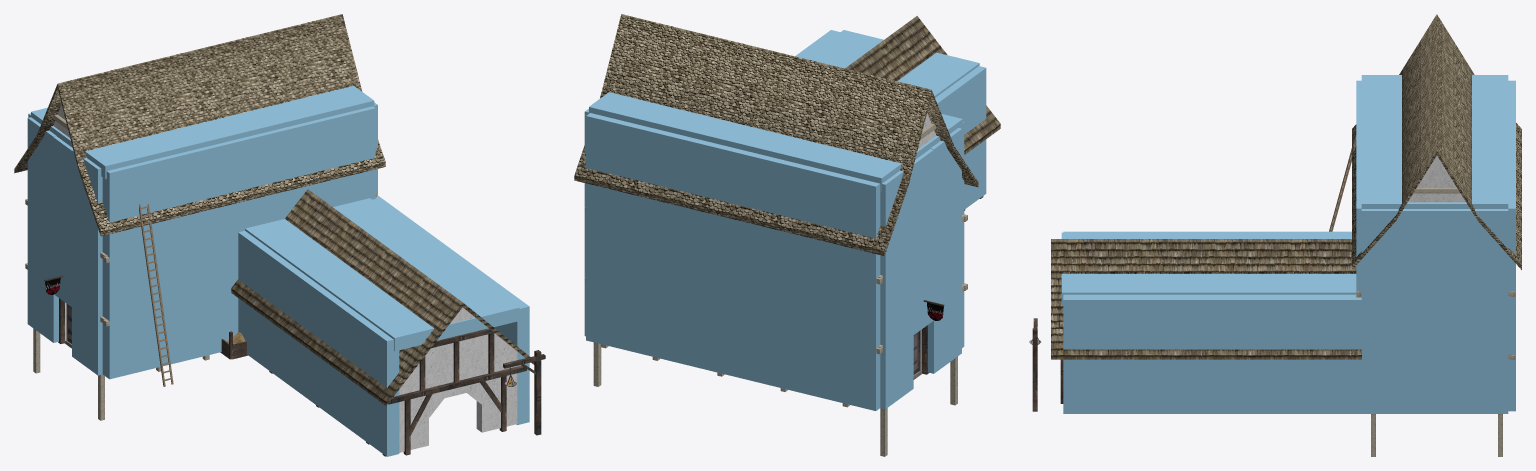
File: HouseTest.obj
The picture shows the model from 3 angles, left to right: view 1: azimuth 30°, elevation 25°; view 2: azimuth 150°, elevation 25°; view 3: azimuth 270°, elevation 25°; orthographic projection. The views are drawn at different scales.
Parts seen in each view (by area): view 1: Box2319, Box2320, Box2324, Box2325, Box2326, Box2327, Box2321, Box2323, Box2328; view 2: Box01, Box2319, Box2326, Box2321, Box2327, Box2328, Box2325, Box2324, Box2320; view 3: Box2323, Box2319, Box2322, Box2326, Box2325, Box01, Box2320, Box2324.
Part boxes in pixels (<box>): Box2319: <box>14,14,545,456</box>; Box2320: <box>102,106,375,379</box>; Box2324: <box>238,230,399,456</box>; Box2325: <box>245,198,519,351</box>; Box2326: <box>31,86,374,178</box>; Box2327: <box>72,150,102,375</box>; Box2321: <box>27,117,58,342</box>; Box2323: <box>372,195,529,424</box>; Box2328: <box>50,136,76,308</box>; Box01: <box>586,113,880,410</box>; Box2319: <box>574,14,1000,456</box>; Box2326: <box>589,92,962,192</box>; Box2321: <box>880,167,913,409</box>; Box2327: <box>928,128,961,373</box>; Box2328: <box>911,146,938,334</box>; Box2325: <box>805,30,979,97</box>; Box2324: <box>935,66,986,209</box>; Box2320: <box>962,122,964,347</box>; Box2323: <box>1063,294,1365,413</box>; Box2319: <box>1029,14,1521,456</box>; Box2322: <box>1361,209,1508,413</box>; Box2326: <box>1361,75,1508,208</box>; Box2325: <box>1061,232,1356,305</box>; Box01: <box>1508,80,1515,411</box>; Box2320: <box>1356,80,1361,297</box>; Box2324: <box>1063,231,1351,232</box>.
Bounding box in the file's own units: 13.61 × 13.75 × 19.8.
15 materials, 14 textured.
